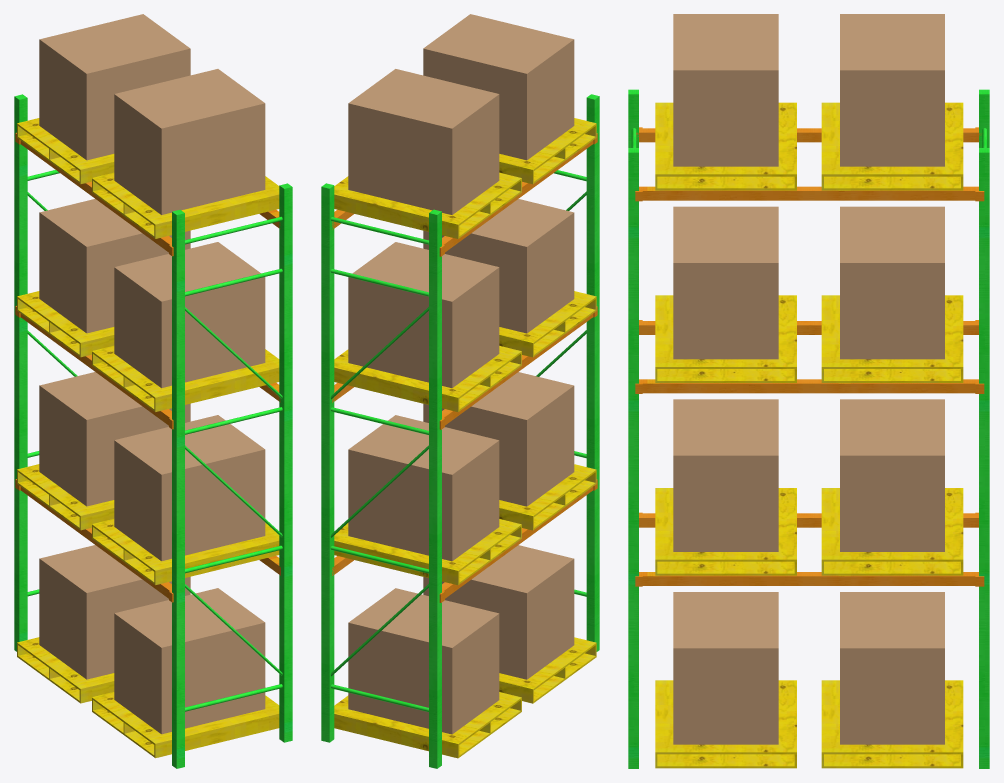
File: green_rack.dae
3 views of the same model, side by side, from view 1: azimuth 30°, elevation 25°; view 2: azimuth 150°, elevation 25°; view 3: azimuth 270°, elevation 25° (orthographic). The views are drawn at different scales.
Parts seen in each view (by area): view 1: box (×8), pallet (×16), post (×3), _8__beam (×3), brace (×5); view 2: box (×8), pallet (×16), post (×3), _8__beam (×3), brace (×5); view 3: box (×8), pallet (×16), _8__beam (×6), post (×2).
Boxes of the visible parts, box(x1,y1,x2,y2) form: box (×8): box(39, 14, 265, 734); pallet (×16): box(17, 118, 279, 758); post (×3): box(14, 94, 292, 768); _8__beam (×3): box(15, 132, 173, 602); brace (×5): box(185, 216, 282, 711); box (×8): box(348, 14, 574, 734); pallet (×16): box(334, 118, 596, 758); post (×3): box(321, 94, 599, 768); _8__beam (×3): box(439, 133, 597, 602); brace (×5): box(330, 217, 428, 711); box (×8): box(673, 14, 944, 744); pallet (×16): box(655, 102, 963, 768); _8__beam (×6): box(635, 127, 984, 586); post (×2): box(628, 148, 989, 768).
Bounding box in the file's own units: 48 × 102 × 216.
